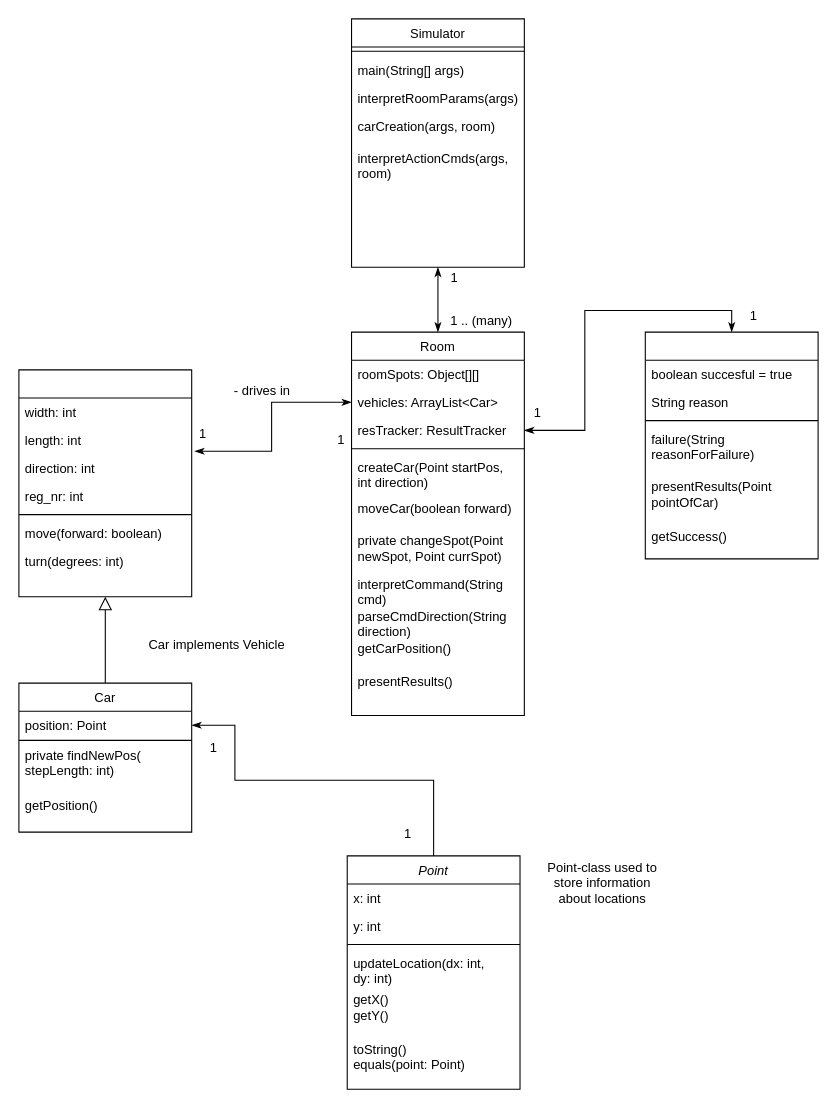
This 837x1111 diagram has some shape labels left out. The box of each missing label's shape, as (x1, y1, x2, y2) in pixels:
ResultTracker: (644, 331, 818, 559)
Vehicle: (18, 369, 192, 597)
